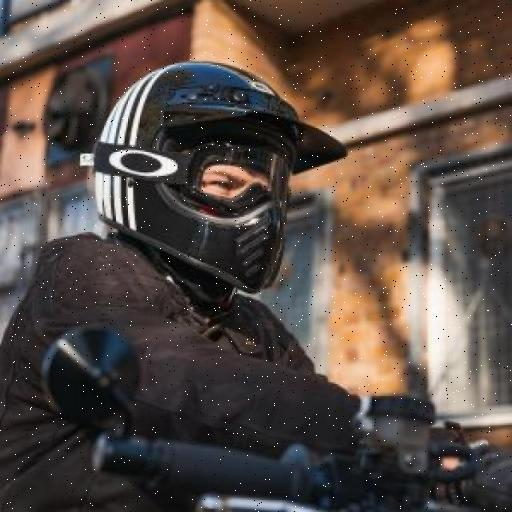Helmet: (97, 47, 330, 293)
